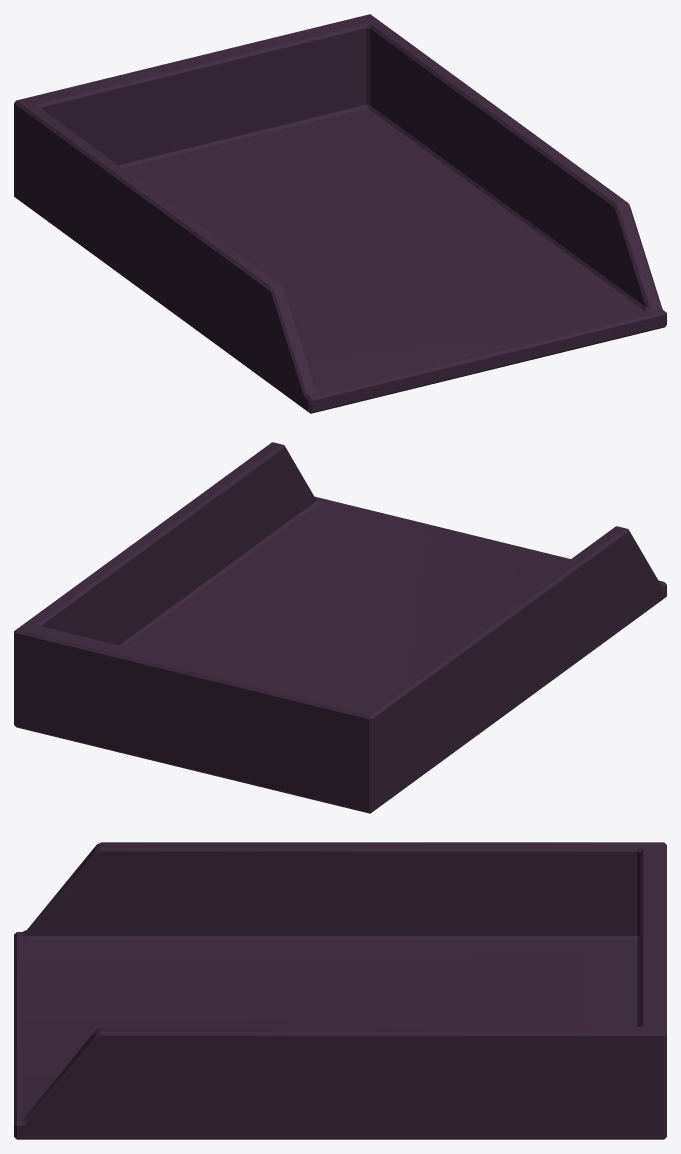
Rendered from PaperTray02.fbx.
3 views of the same model, one above another, from view 1: azimuth 30°, elevation 25°; view 2: azimuth 150°, elevation 25°; view 3: azimuth 270°, elevation 25° (orthographic). The views are drawn at different scales.
Visible parts, largest first — view 1: Paper Tray 001; view 2: Paper Tray 001; view 3: Paper Tray 001.
Boxes of the visible parts, <box> form: Paper Tray 001: <box>14,14,666,413</box>; Paper Tray 001: <box>14,442,666,813</box>; Paper Tray 001: <box>14,842,666,1139</box>.
Size of the model in its own units: 23 by 6 by 33.
